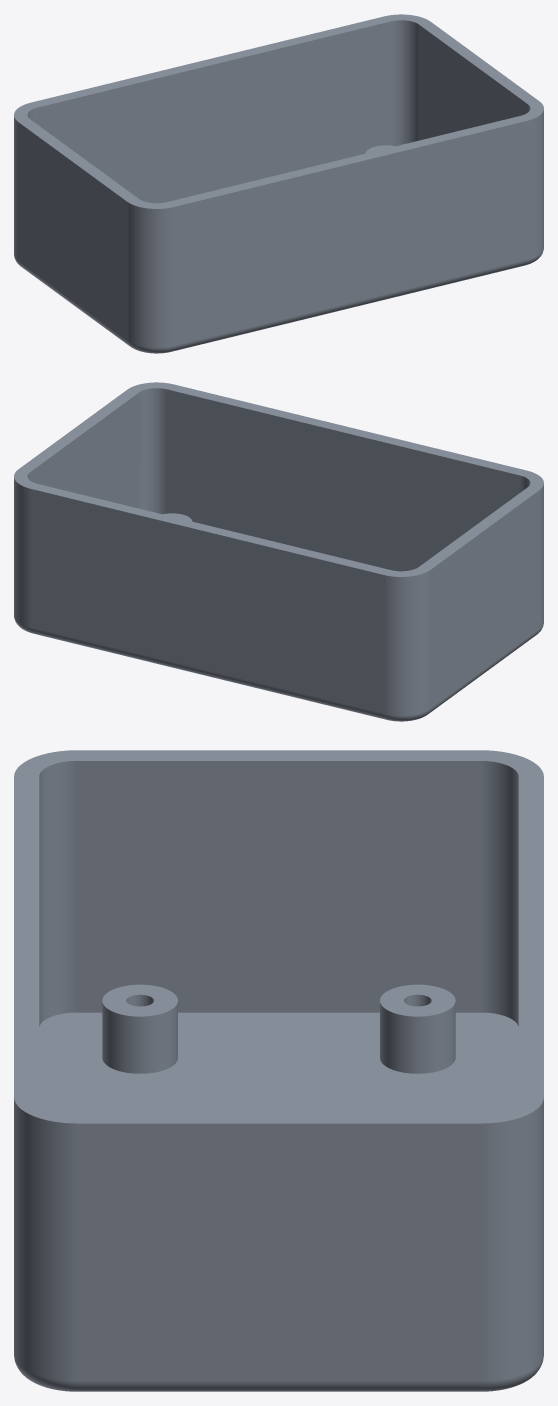
The model's file is step-2-preview-1.glb.
3 views of the same model, one above another, from view 1: azimuth 30°, elevation 25°; view 2: azimuth 150°, elevation 25°; view 3: azimuth 270°, elevation 25° (orthographic). The views are drawn at different scales.
Visible parts, largest first — view 1: preview_6, preview_19, preview_0, preview_3, preview_17, preview_1, preview_18, preview_10, preview_21, preview_4, preview_2; view 2: preview_9, preview_15, preview_0, preview_3, preview_17, preview_4, preview_16, preview_11, preview_22, preview_1, preview_2; view 3: preview_12, preview_13, preview_26, preview_3, preview_10, preview_11, preview_14, preview_20, preview_25, preview_27, preview_29, preview_31 (+1 smaller).
Boxes of the visible parts, x1=… form: preview_6: x1=173, y1=121, x2=526, y2=345; preview_19: x1=37, y1=21, x2=390, y2=203; preview_0: x1=18, y1=122, x2=127, y2=339; preview_3: x1=14, y1=14, x2=543, y2=208; preview_17: x1=419, y1=25, x2=527, y2=140; preview_1: x1=127, y1=202, x2=173, y2=347; preview_18: x1=391, y1=20, x2=418, y2=146; preview_10: x1=527, y1=110, x2=543, y2=259; preview_21: x1=172, y1=259, x2=526, y2=351; preview_4: x1=14, y1=116, x2=18, y2=260; preview_2: x1=18, y1=261, x2=128, y2=345; preview_9: x1=31, y1=489, x2=384, y2=713; preview_15: x1=167, y1=389, x2=520, y2=571; preview_0: x1=430, y1=490, x2=539, y2=707; preview_3: x1=14, y1=382, x2=543, y2=576; preview_17: x1=30, y1=393, x2=138, y2=508; preview_4: x1=384, y1=570, x2=430, y2=715; preview_16: x1=139, y1=388, x2=166, y2=514; preview_11: x1=14, y1=478, x2=30, y2=627; preview_22: x1=31, y1=627, x2=385, y2=719; preview_1: x1=539, y1=484, x2=543, y2=628; preview_2: x1=429, y1=629, x2=539, y2=713; preview_12: x1=77, y1=1123, x2=480, y2=1380; preview_13: x1=77, y1=761, x2=480, y2=1012; preview_26: x1=39, y1=1012, x2=518, y2=1112; preview_3: x1=14, y1=750, x2=543, y2=1123; preview_10: x1=14, y1=1098, x2=76, y2=1380; preview_11: x1=481, y1=1098, x2=543, y2=1380; preview_14: x1=39, y1=761, x2=76, y2=1026; preview_20: x1=481, y1=761, x2=518, y2=1026; preview_25: x1=77, y1=1381, x2=480, y2=1391; preview_27: x1=102, y1=1002, x2=177, y2=1073; preview_29: x1=380, y1=1002, x2=455, y2=1073; preview_31: x1=102, y1=984, x2=177, y2=1016.
Bounding box in the file's own units: 0.07 × 0.024 × 0.042.
